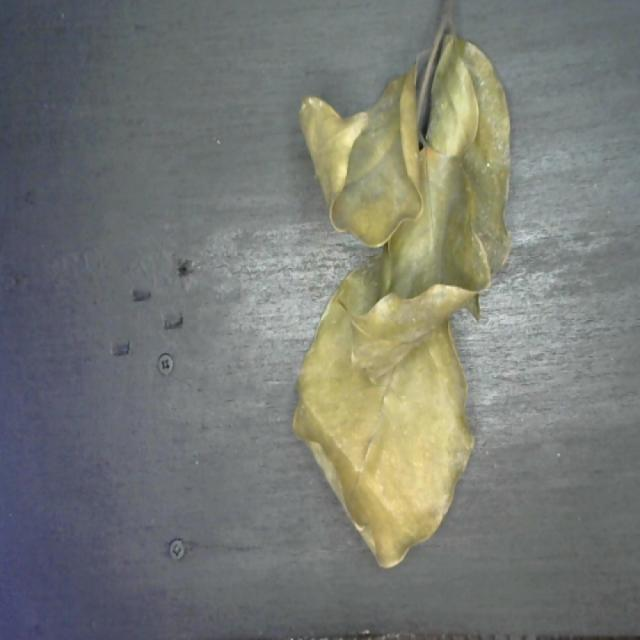biodegradable: (292, 28, 514, 579)
